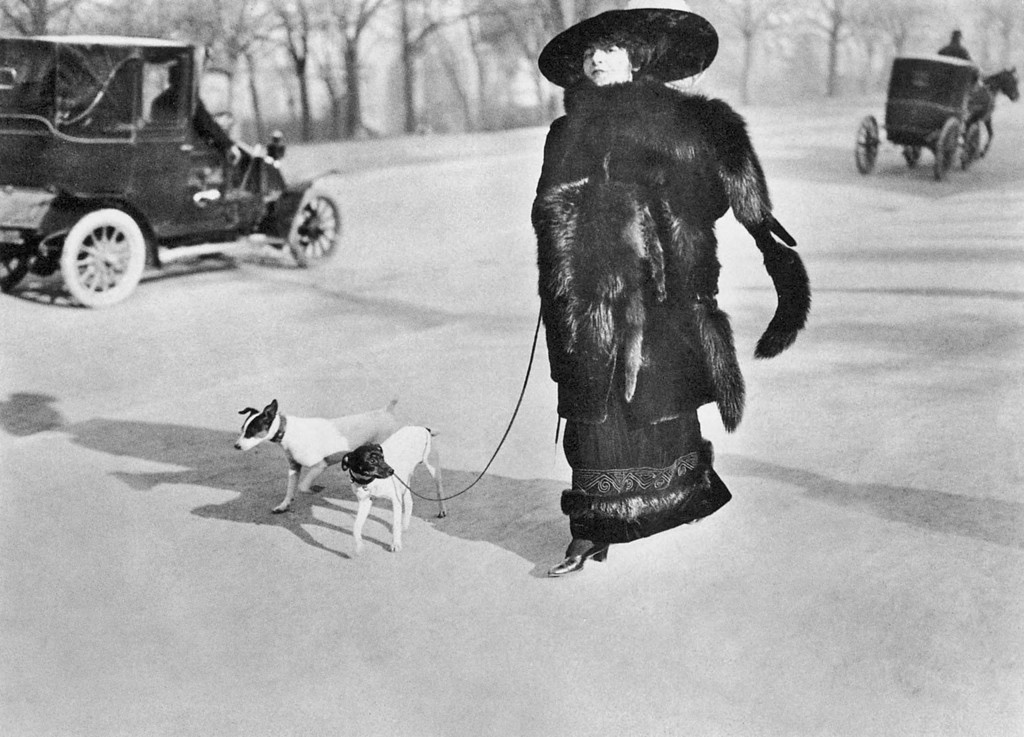cars: (0, 38, 351, 302)
